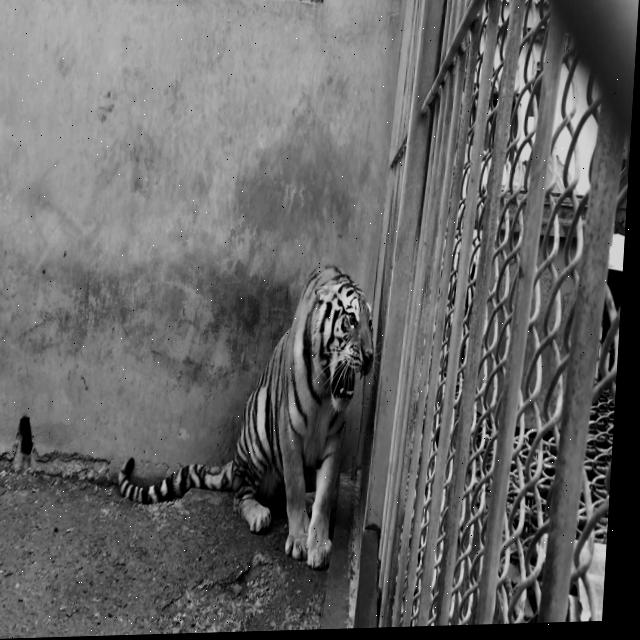Tiger: (111, 261, 384, 576)
